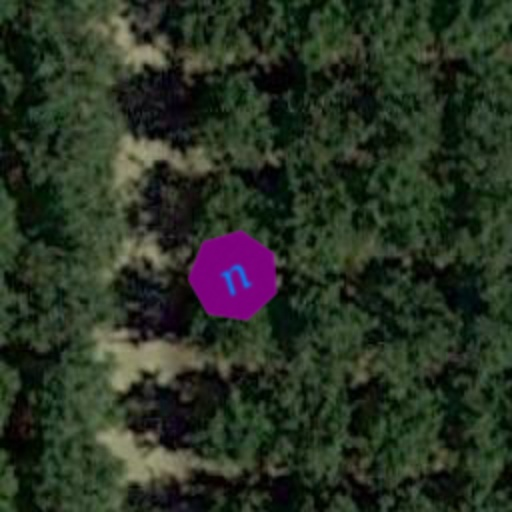heptagon: (170, 212, 298, 340)
